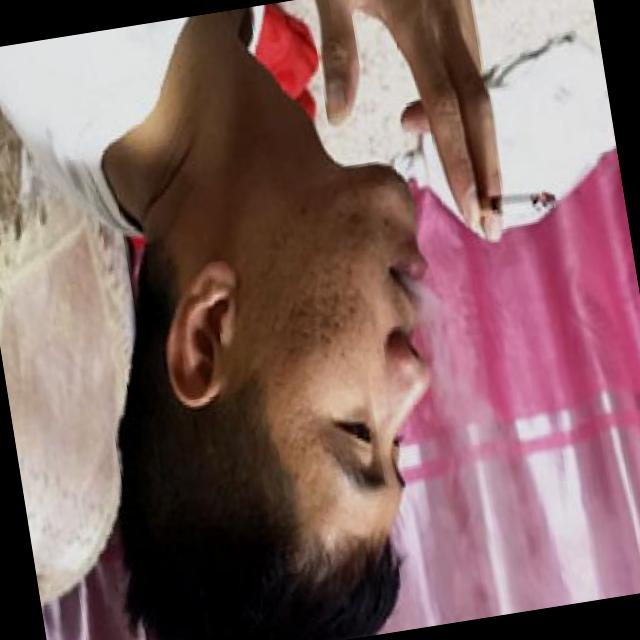cigarette: (458, 164, 576, 246)
